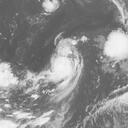cyclone: (49, 39, 83, 94), (101, 28, 127, 61), (40, 1, 61, 13)
